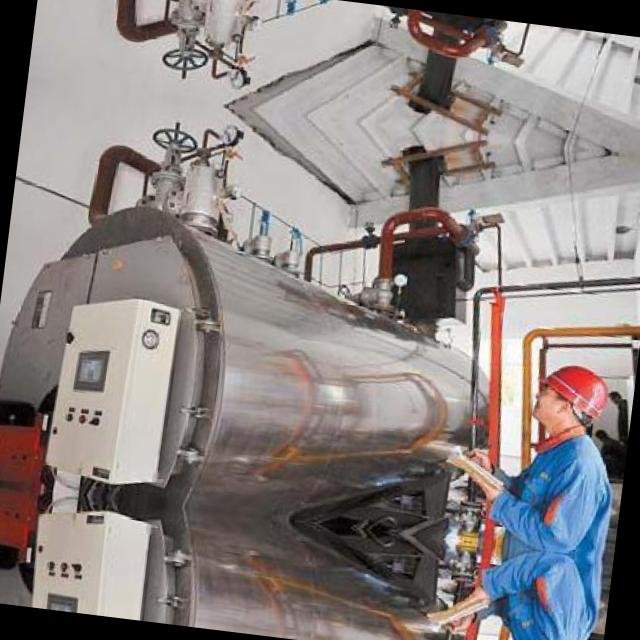helmet: (526, 348, 620, 444)
